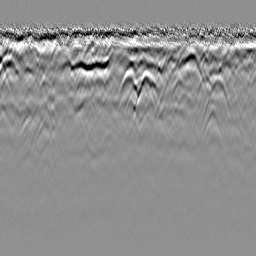cavity: (116, 62, 139, 102)
